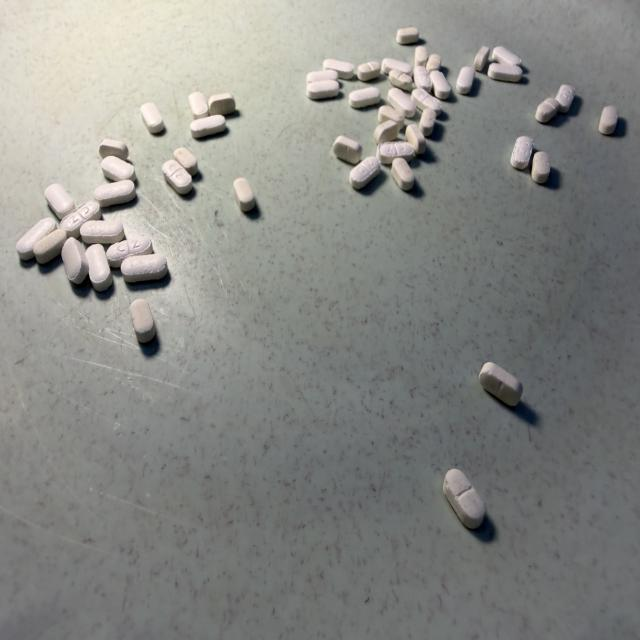pill: (444, 469, 485, 529), (16, 217, 68, 260), (348, 76, 411, 108), (479, 362, 522, 406), (61, 201, 101, 238), (106, 236, 153, 267), (121, 254, 167, 282), (86, 244, 112, 291), (62, 238, 88, 284), (94, 180, 136, 207), (33, 229, 66, 263), (130, 299, 155, 343), (80, 220, 124, 244), (162, 160, 192, 194), (45, 184, 74, 219), (350, 157, 380, 189), (101, 156, 135, 181), (377, 141, 413, 164), (391, 157, 415, 191), (333, 136, 362, 164), (387, 88, 415, 117), (190, 115, 225, 138), (510, 136, 533, 170), (412, 89, 441, 115), (234, 178, 255, 212), (141, 103, 164, 133), (174, 148, 198, 175), (488, 63, 522, 82), (406, 123, 426, 155), (99, 139, 128, 160), (323, 59, 353, 79), (378, 105, 404, 128), (374, 120, 400, 143), (208, 93, 235, 115), (430, 70, 450, 99), (307, 81, 339, 99), (532, 152, 550, 183), (382, 58, 413, 76), (535, 98, 558, 122), (492, 46, 521, 65), (599, 106, 618, 135), (188, 92, 209, 118), (556, 85, 575, 113), (419, 107, 436, 136), (456, 67, 474, 94), (389, 70, 412, 91), (357, 61, 380, 81), (414, 67, 432, 92), (307, 70, 338, 84), (396, 27, 419, 45), (474, 46, 489, 71), (414, 46, 428, 72), (426, 54, 441, 71)
